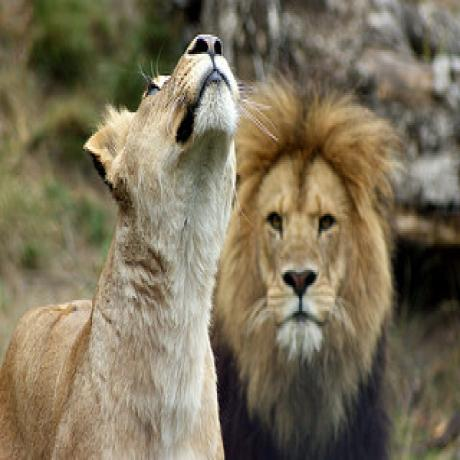Lion: (0, 29, 236, 460), (212, 75, 394, 460)
